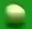white: (0, 0, 32, 29)
